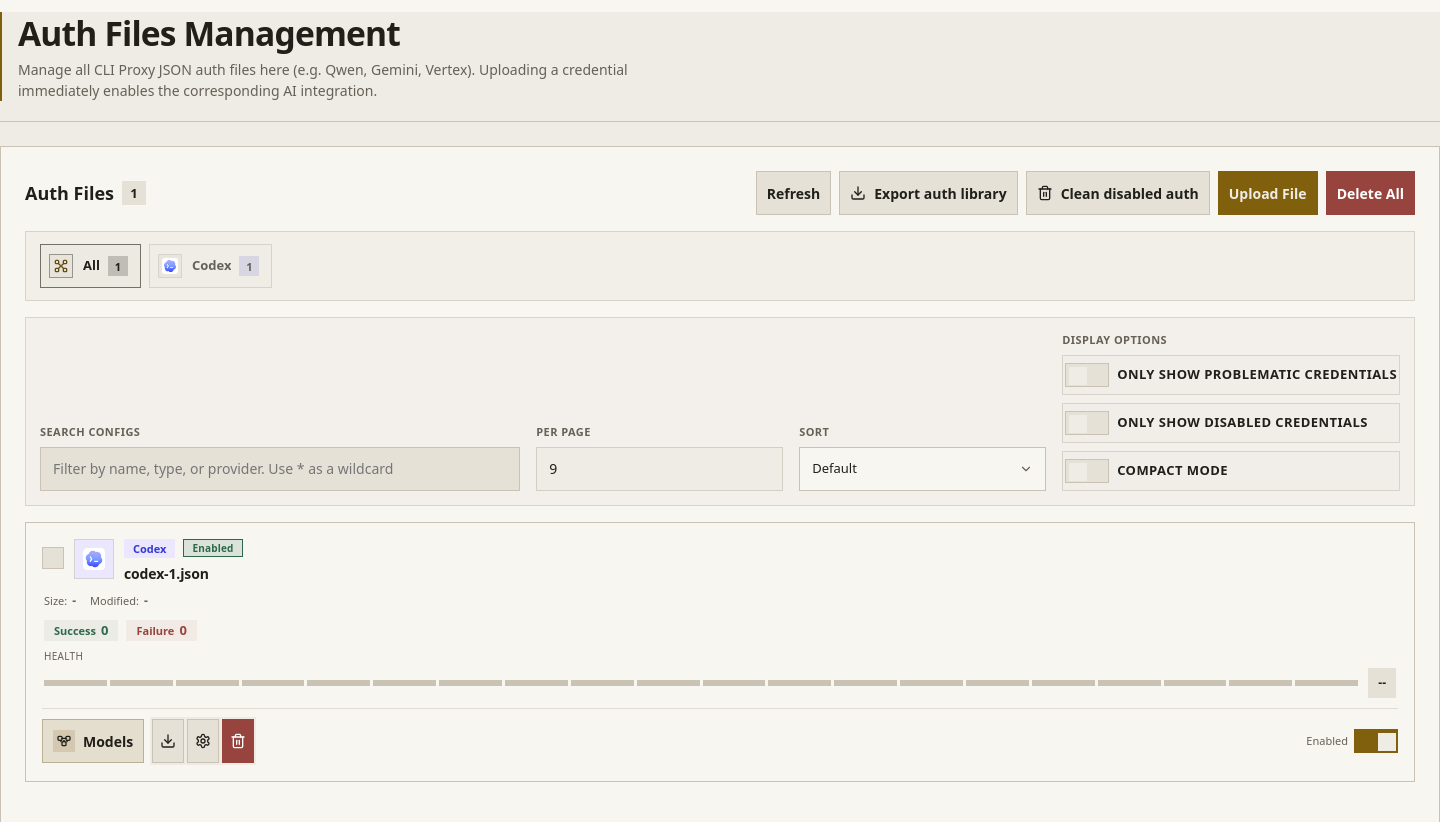
Test: AuthFilesPage delete flow › removes the deleted card from the list after a successful delete
Check: the text "codex-1.json" is shown, box [124, 564, 209, 583]
Click the button titled "Delete": (238, 741) [222, 719, 254, 763]
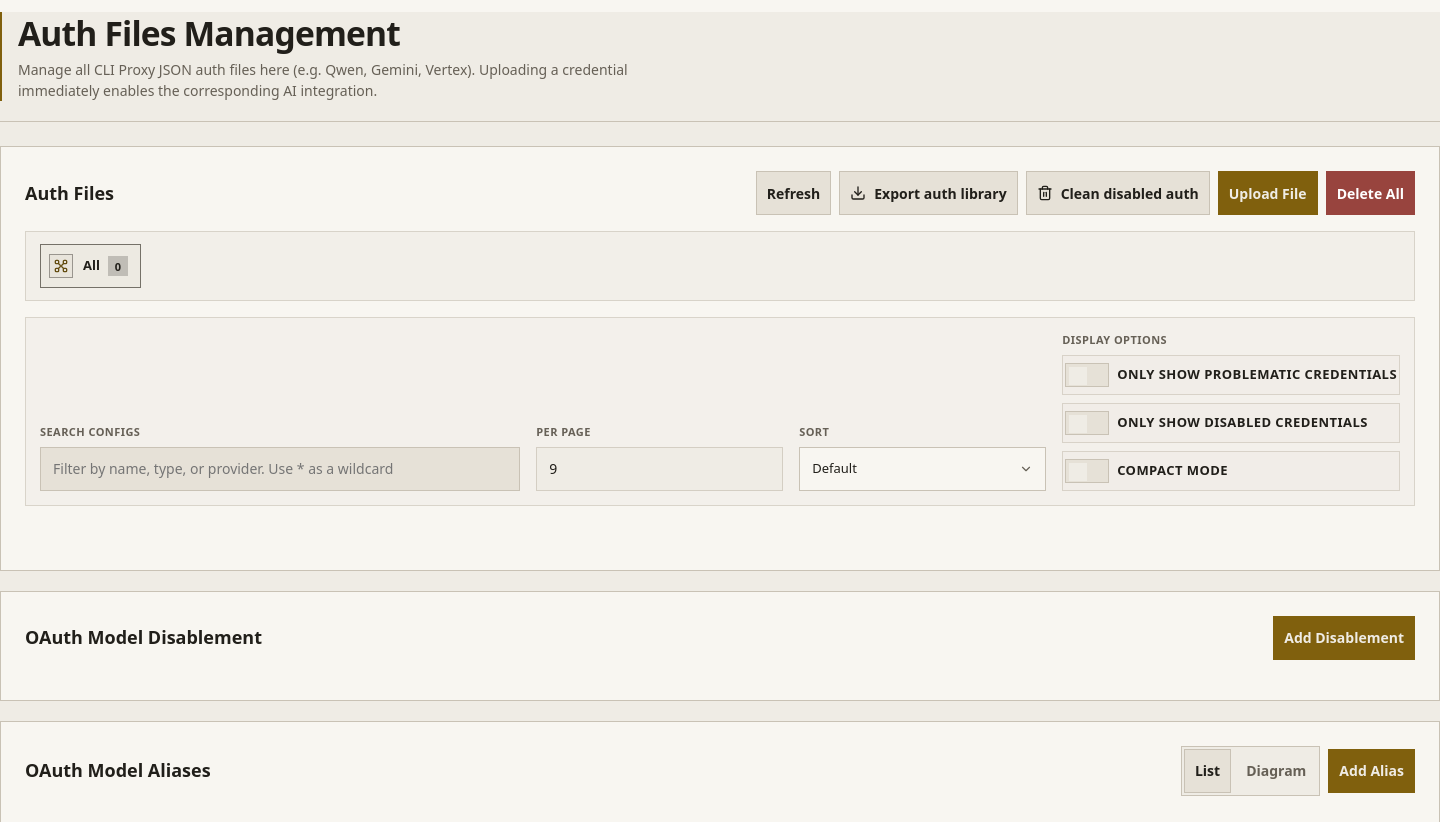
Check: the text "codex-1.json" is gone
